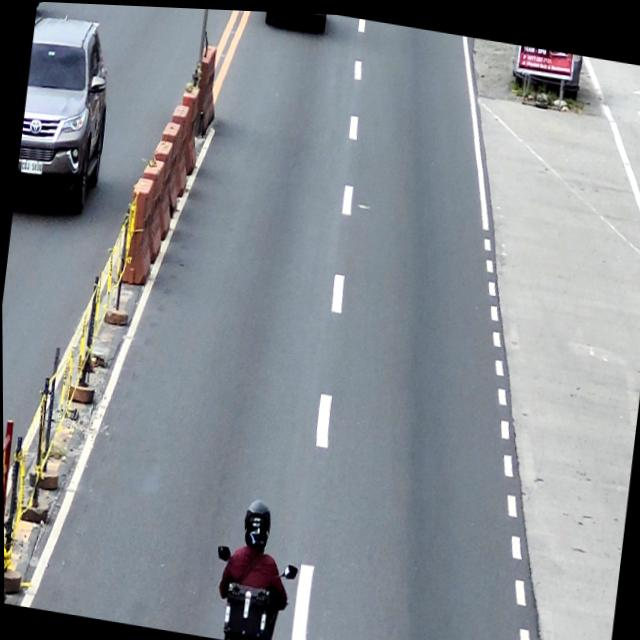Car: (13, 12, 118, 218)
License-Plate: (18, 157, 43, 175)
